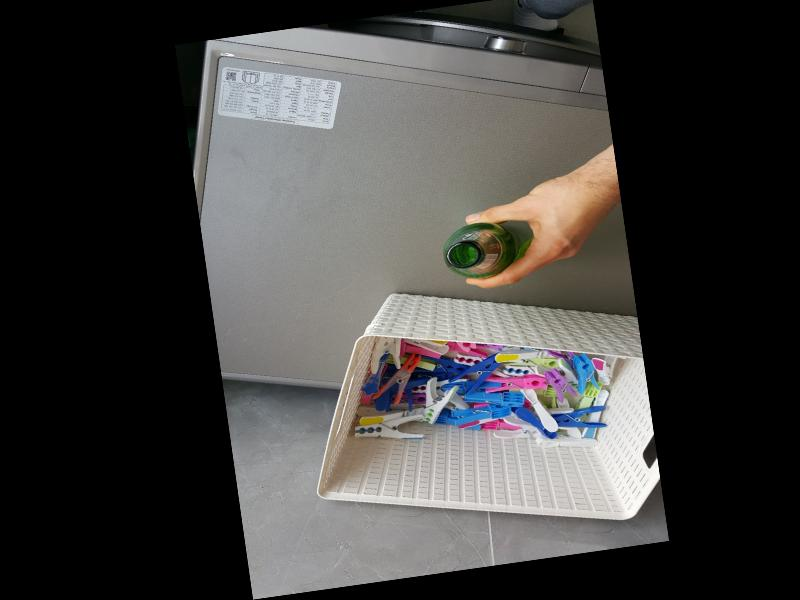Beer: (439, 217, 524, 283)
